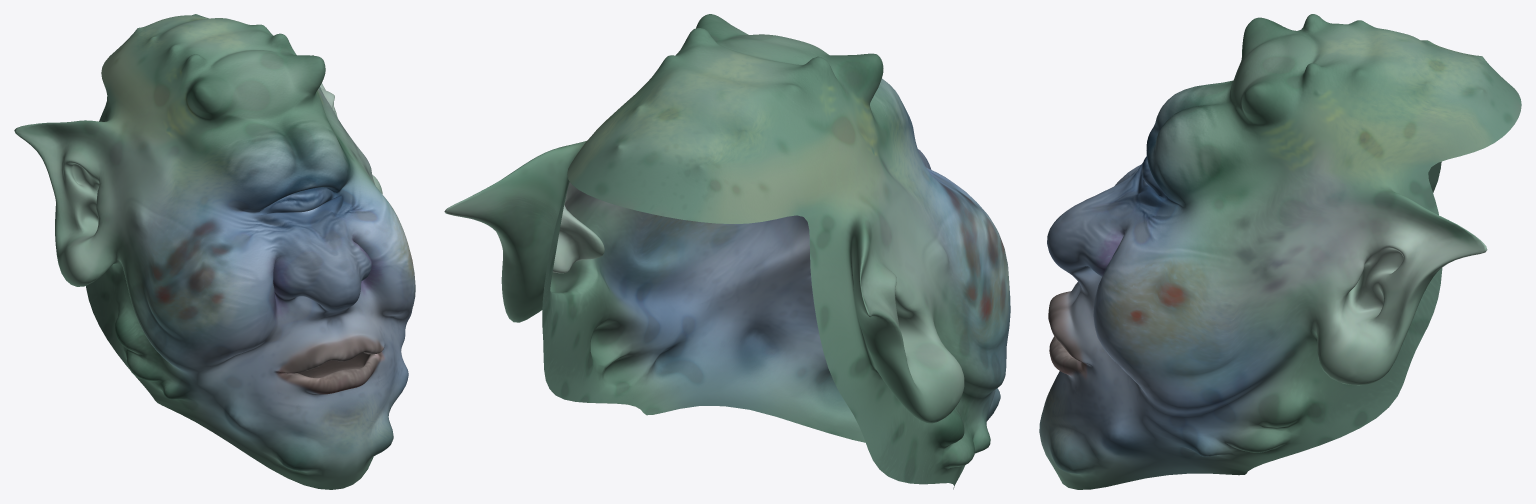
The model's file is bs_blink.obj.
The picture shows the model from 3 angles, left to right: view 1: azimuth 30°, elevation 25°; view 2: azimuth 150°, elevation 25°; view 3: azimuth 270°, elevation 25°; orthographic projection. The views are drawn at different scales.
Visible parts, largest first — view 1: ogre_00; view 2: ogre_00; view 3: ogre_00.
Part boxes in pixels (x1=…): ogre_00: x1=14, y1=14, x2=415, y2=489; ogre_00: x1=444, y1=14, x2=1010, y2=489; ogre_00: x1=1039, y1=14, x2=1521, y2=489.
Size of the model in its own units: 1.06 by 1.19 by 1.18.
1 material, 1 textured.
